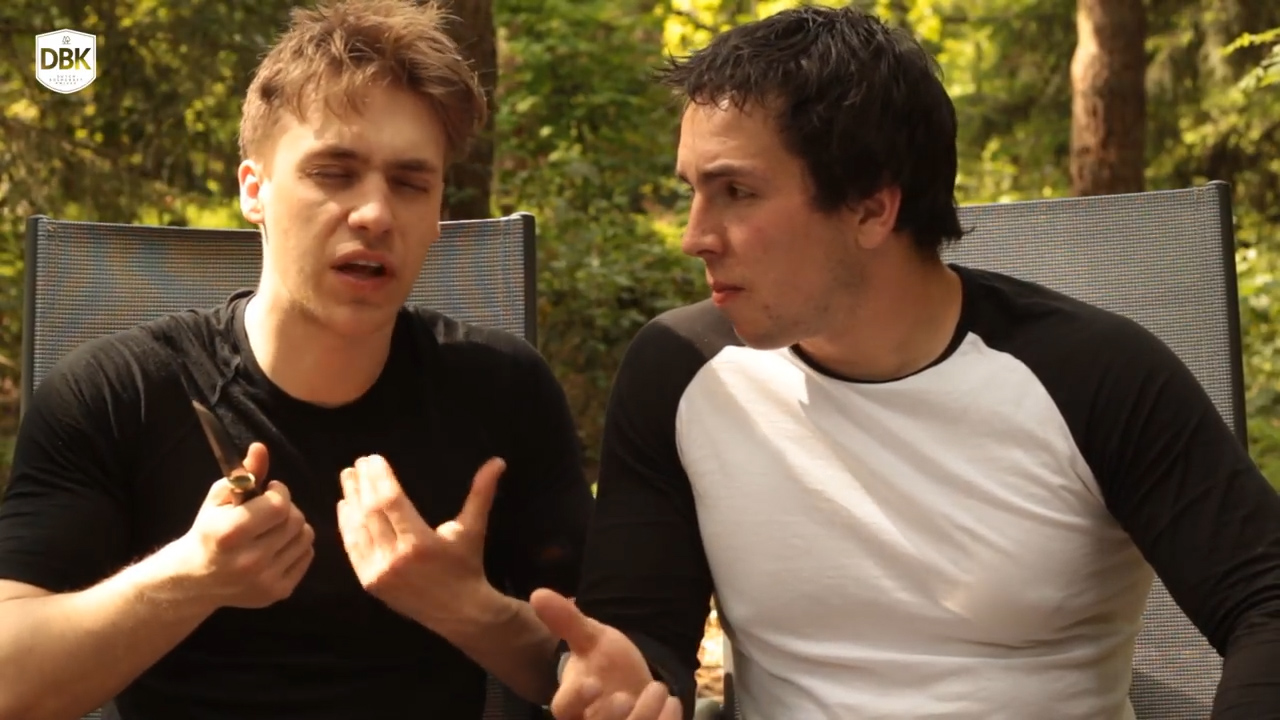knife: (172, 384, 322, 572)
